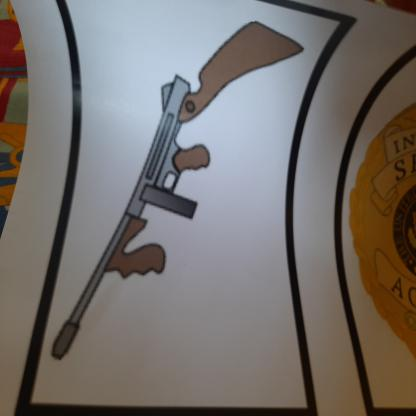Bootlegger: (48, 9, 307, 370)
